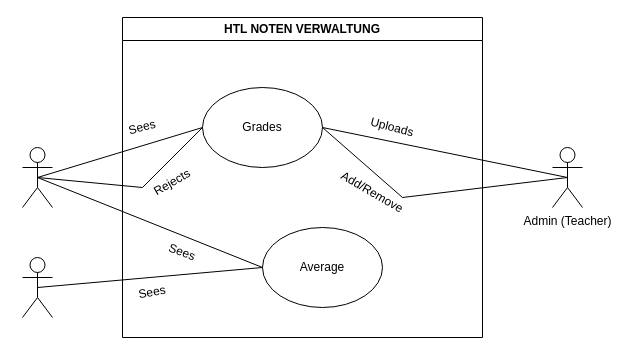
Image size: 629x356. Some labels were removed from this diagram. The box of each missing label's shape, as (x1, y1, x2, y2) in pixels:
Parent: (22, 256, 52, 318)
Student: (22, 146, 52, 208)
